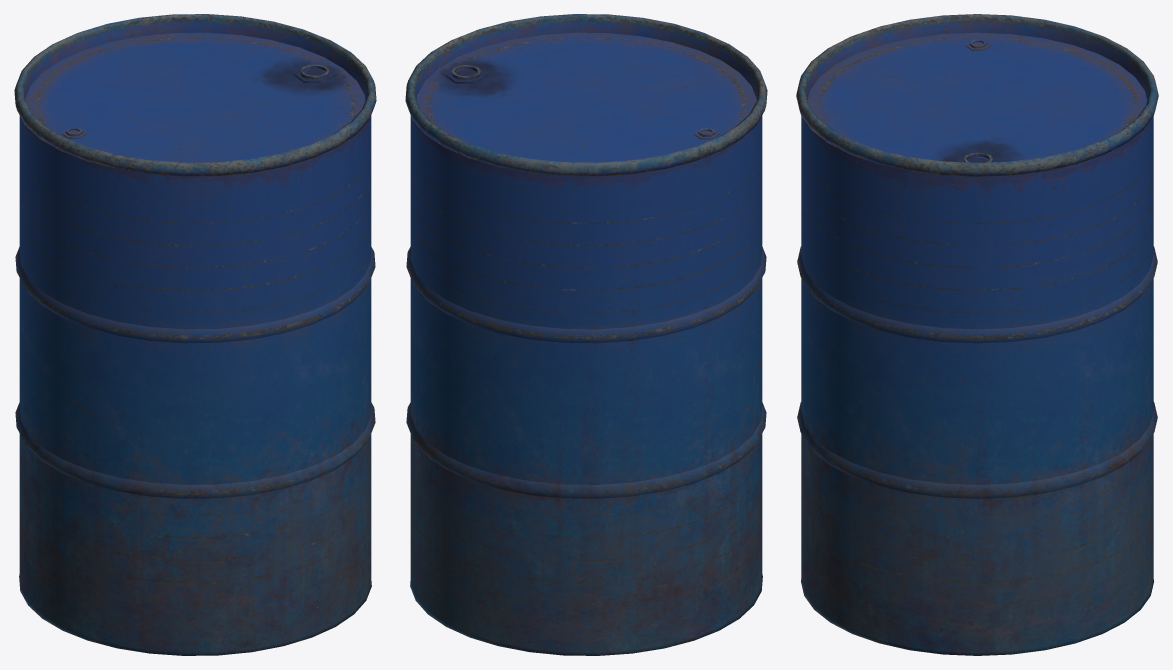
The model's file is бочка.glb.
3 renders of one model, left to right at view 1: azimuth 30°, elevation 25°; view 2: azimuth 150°, elevation 25°; view 3: azimuth 270°, elevation 25°, orthographic.
Parts seen in each view (by area): view 1: Barrel_01_Low; view 2: Barrel_01_Low; view 3: Barrel_01_Low.
Boxes of the visible parts, x1,y1,x2,y2 form: Barrel_01_Low: [14, 14, 376, 655]; Barrel_01_Low: [405, 14, 767, 655]; Barrel_01_Low: [796, 14, 1158, 655].
Bounding box in the file's own units: 0.6005 × 0.903 × 0.6005.
Materials: 1 (1 with a texture image).
